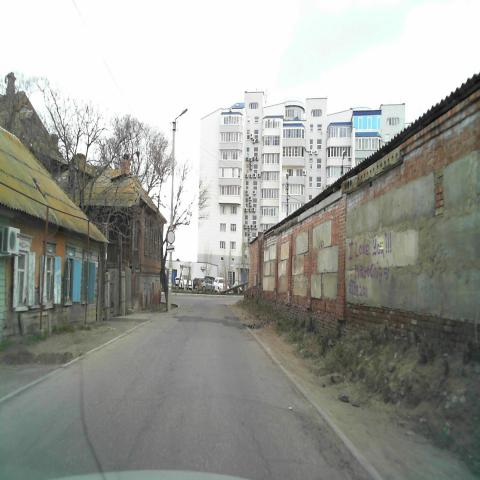3_2: (166, 230, 175, 244)
